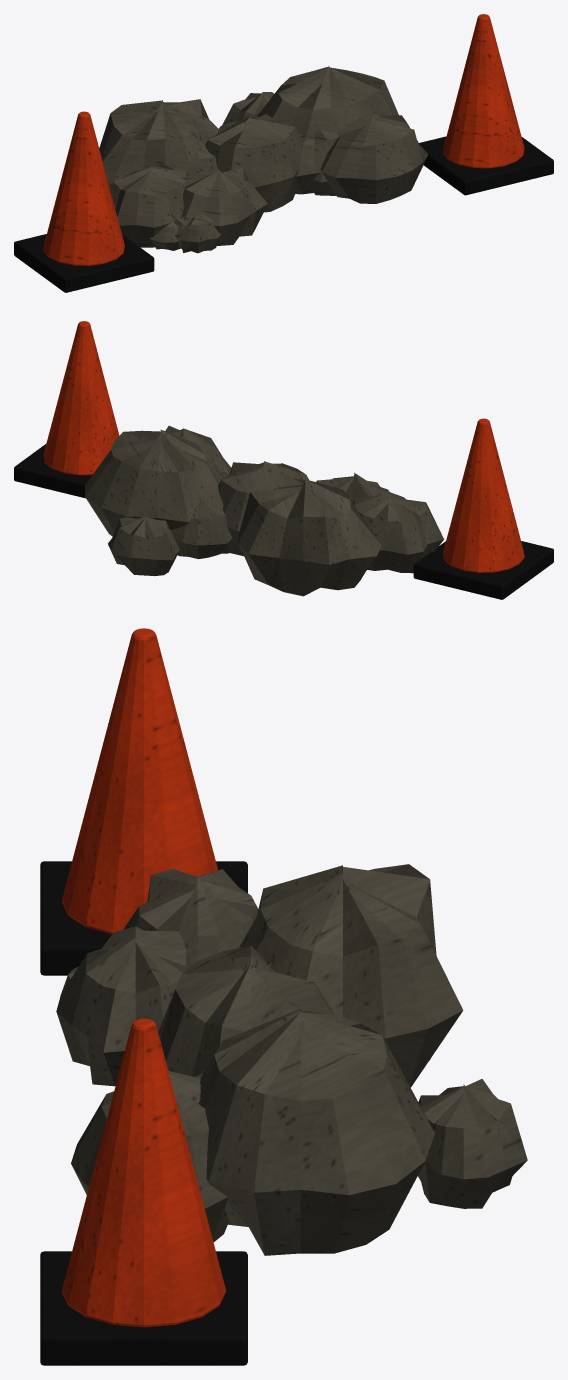
The model's file is PROP-D143798EFE91_lod0.glb.
3 renders of one model, top to bottom at view 1: azimuth 30°, elevation 25°; view 2: azimuth 150°, elevation 25°; view 3: azimuth 270°, elevation 25°, orthographic. The views are drawn at different scales.
Visible parts, largest first — view 1: rock.005, cone, cone_base; view 2: rock.005, cone, cone_base; view 3: rock.005, cone, cone_base.
Boxes of the visible parts, box(x1,y1,x2,y2) form: rock.005: box(99, 66, 428, 253); cone: box(43, 14, 524, 265); cone_base: box(14, 136, 553, 292); rock.005: box(85, 425, 443, 596); cone: box(43, 321, 524, 572); cone_base: box(14, 444, 553, 599); rock.005: box(56, 864, 527, 1255); cone: box(62, 628, 226, 1327); cone_base: box(40, 861, 247, 1365).
Bounding box in the file's own units: 2.45 × 0.72 × 1.06.
Materials: 4 (4 with a texture image).
